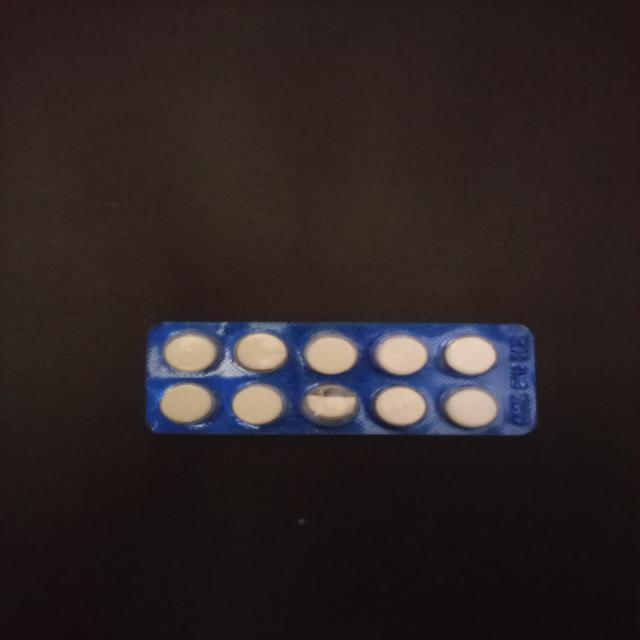defect: (297, 381, 362, 430)
